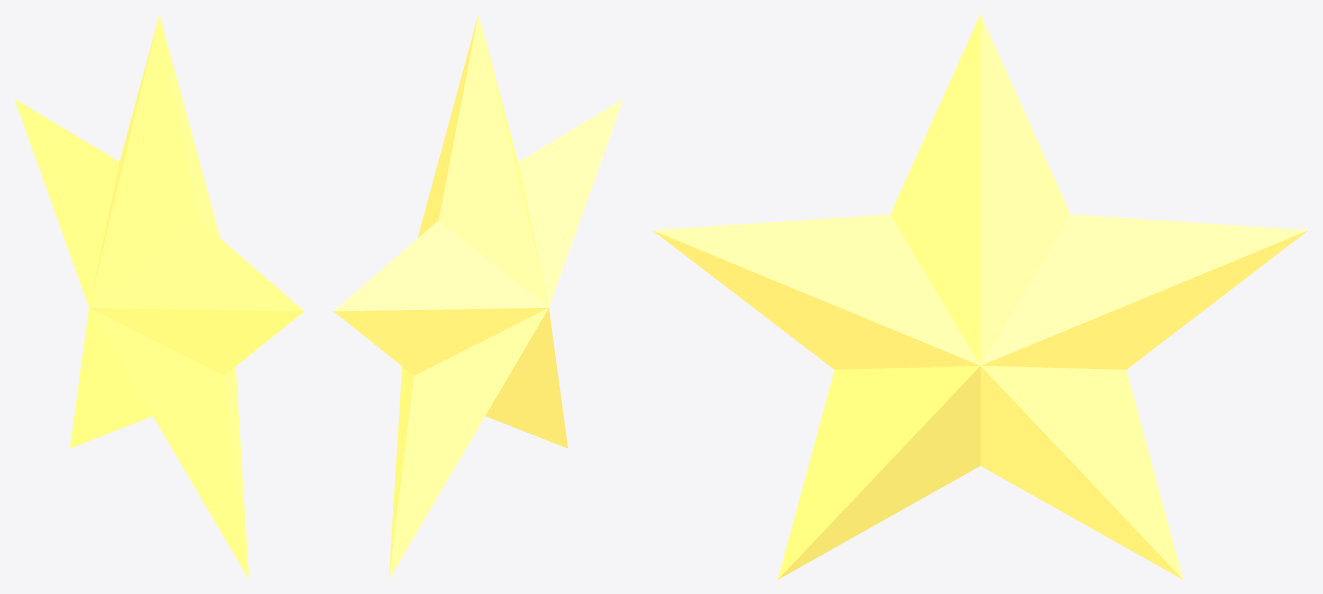
File: nutrient_a.glb
3 views of the same model, side by side, from view 1: azimuth 30°, elevation 25°; view 2: azimuth 150°, elevation 25°; view 3: azimuth 270°, elevation 25° (orthographic). The views are drawn at different scales.
Visible parts, largest first — view 1: nutrient_a; view 2: nutrient_a; view 3: nutrient_a.
Boxes of the visible parts, left/top/right/bottom form: nutrient_a: left=14, top=14, right=304, bottom=578; nutrient_a: left=333, top=14, right=623, bottom=578; nutrient_a: left=652, top=14, right=1308, bottom=579.
Bounding box in the file's own units: 0.24 × 0.8141 × 0.856.
